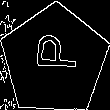P_W: (29, 41, 79, 79)
